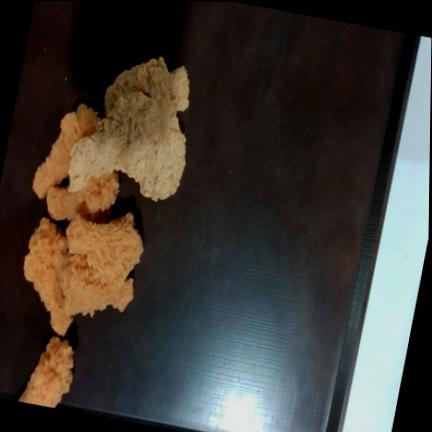chicken: (69, 93, 162, 191), (33, 104, 98, 199), (24, 218, 73, 336), (66, 212, 143, 285), (65, 255, 133, 315), (19, 337, 73, 408), (47, 172, 119, 222)
